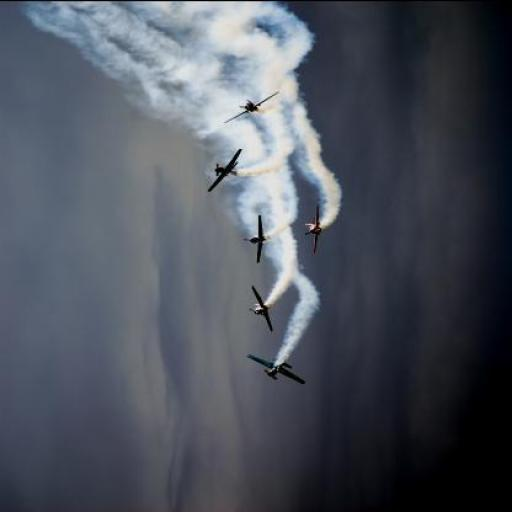aircraft: (248, 353, 309, 387), (223, 89, 281, 124), (207, 148, 243, 192), (249, 284, 274, 333), (243, 214, 266, 264), (305, 203, 322, 254)
